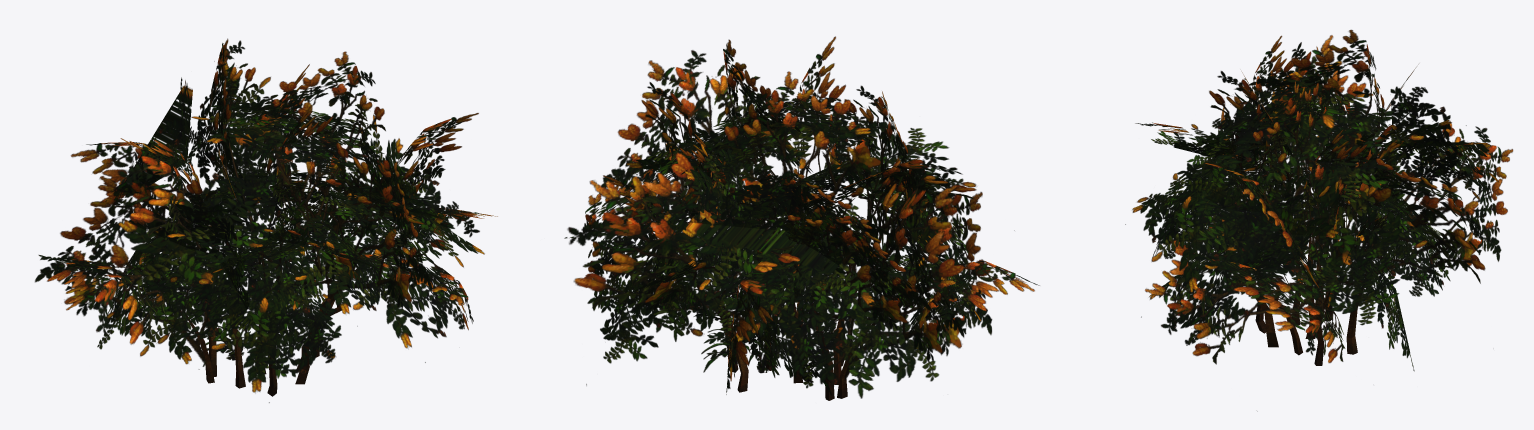
The model's file is Plant_G.glb.
3 renders of one model, left to right at view 1: azimuth 30°, elevation 25°; view 2: azimuth 150°, elevation 25°; view 3: azimuth 270°, elevation 25°, orthographic. The views are drawn at different scales.
Visible parts, largest first — view 1: Plant_G; view 2: Plant_G; view 3: Plant_G.
Boxes of the visible parts, box(x1,y1,x2,y2) form: Plant_G: box(35, 38, 497, 402); Plant_G: box(564, 36, 1039, 400); Plant_G: box(1125, 29, 1513, 411).
Size of the model in its own units: 1.04 by 0.7282 by 0.8964.
Materials: 1 (1 with a texture image).
